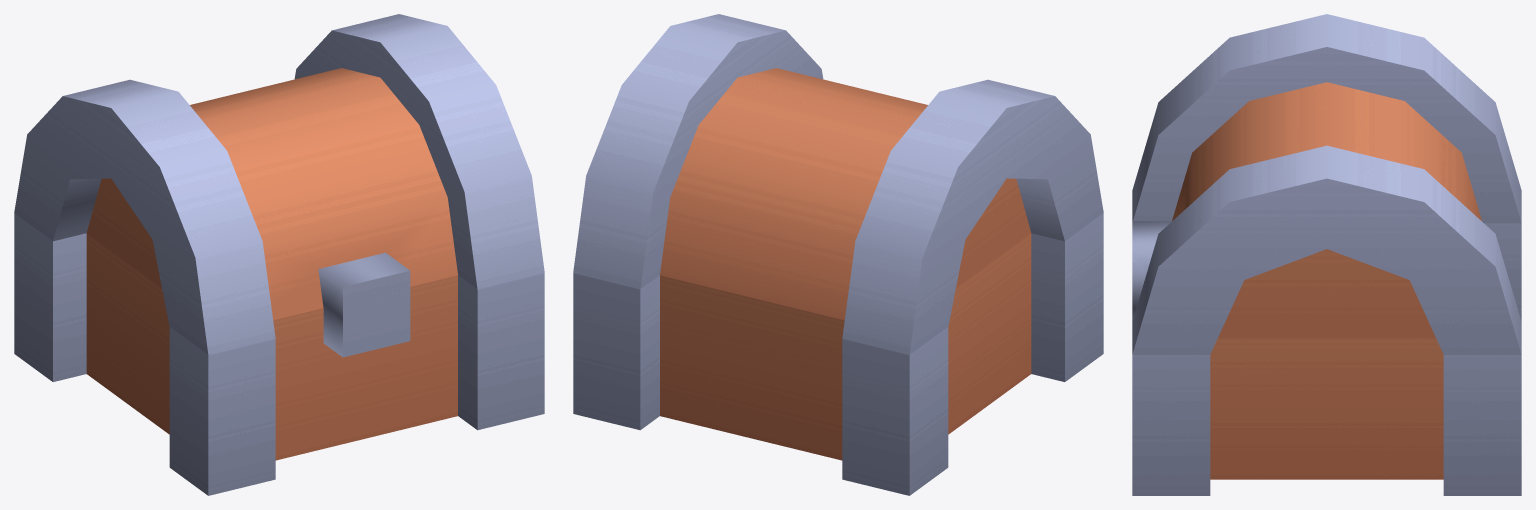
File: chest.glb
3 renders of one model, left to right at view 1: azimuth 30°, elevation 25°; view 2: azimuth 150°, elevation 25°; view 3: azimuth 270°, elevation 25°, orthographic.
Visible parts, largest first — view 1: lid, chest; view 2: lid, chest; view 3: lid, chest.
Boxes of the visible parts, x1=… form: lid: x1=14, y1=14, x2=544, y2=357; chest: x1=14, y1=213, x2=544, y2=495; lid: x1=573, y1=14, x2=1103, y2=354; chest: x1=573, y1=213, x2=1103, y2=495; lid: x1=1132, y1=14, x2=1521, y2=354; chest: x1=1132, y1=223, x2=1521, y2=495.
Size of the model in its own units: 0.5 by 0.45 by 0.5.
Materials: 1 (1 with a texture image).
